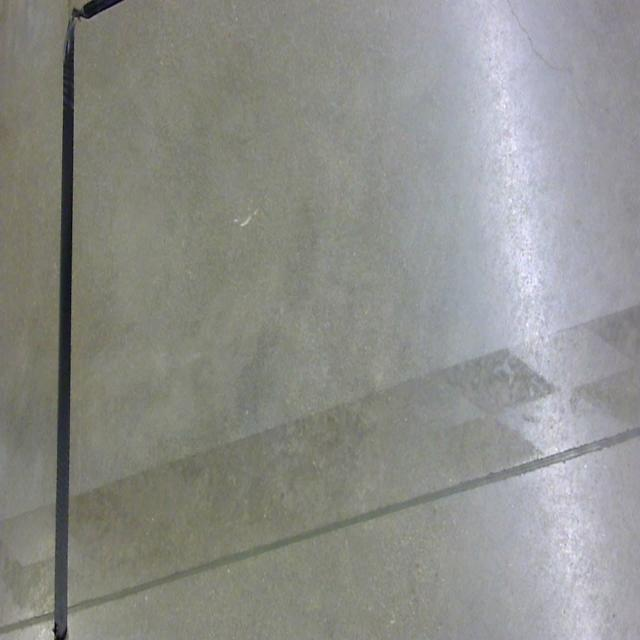tape: (52, 0, 120, 640)
